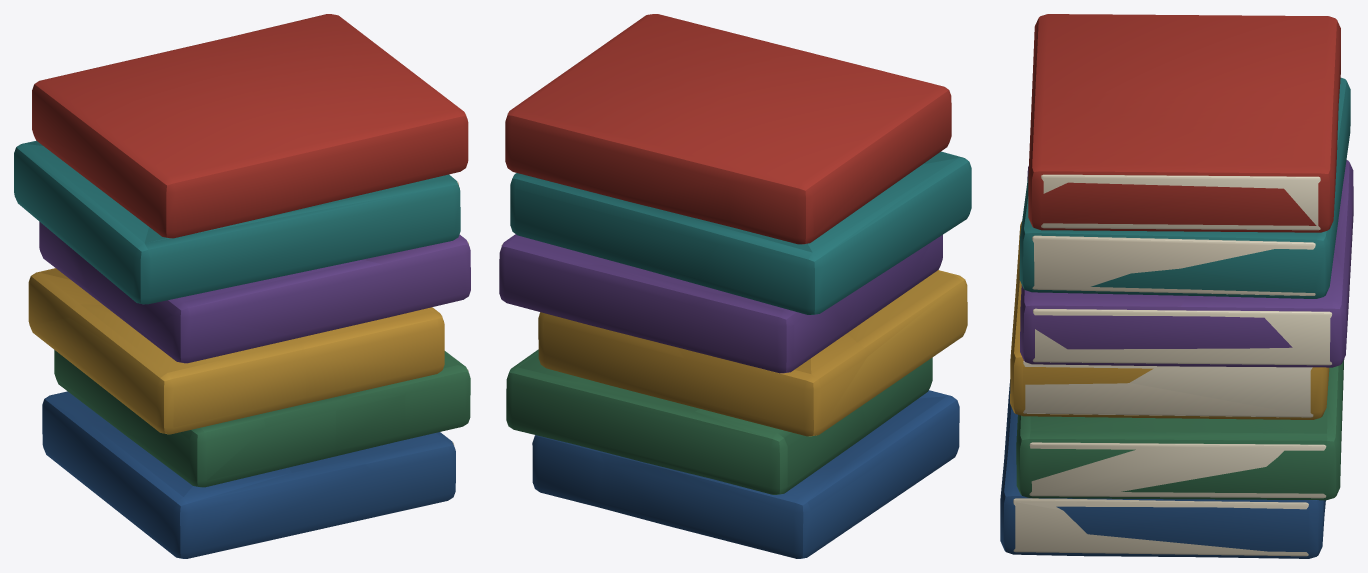
Rendered from den_book_stack_tall_lod1.glb.
The picture shows the model from 3 angles, left to right: view 1: azimuth 30°, elevation 25°; view 2: azimuth 150°, elevation 25°; view 3: azimuth 270°, elevation 25°; orthographic projection. The views are drawn at different scales.
Parts seen in each view (by area): view 1: den_book_stack_tall.001; view 2: den_book_stack_tall.001; view 3: den_book_stack_tall.001.
Part boxes in pixels (x1=…): den_book_stack_tall.001: x1=14, y1=14, x2=470, y2=558; den_book_stack_tall.001: x1=499, y1=14, x2=971, y2=558; den_book_stack_tall.001: x1=1000, y1=14, x2=1353, y2=558.
Size of the model in its own units: 8.32 by 8.99 by 7.12.
